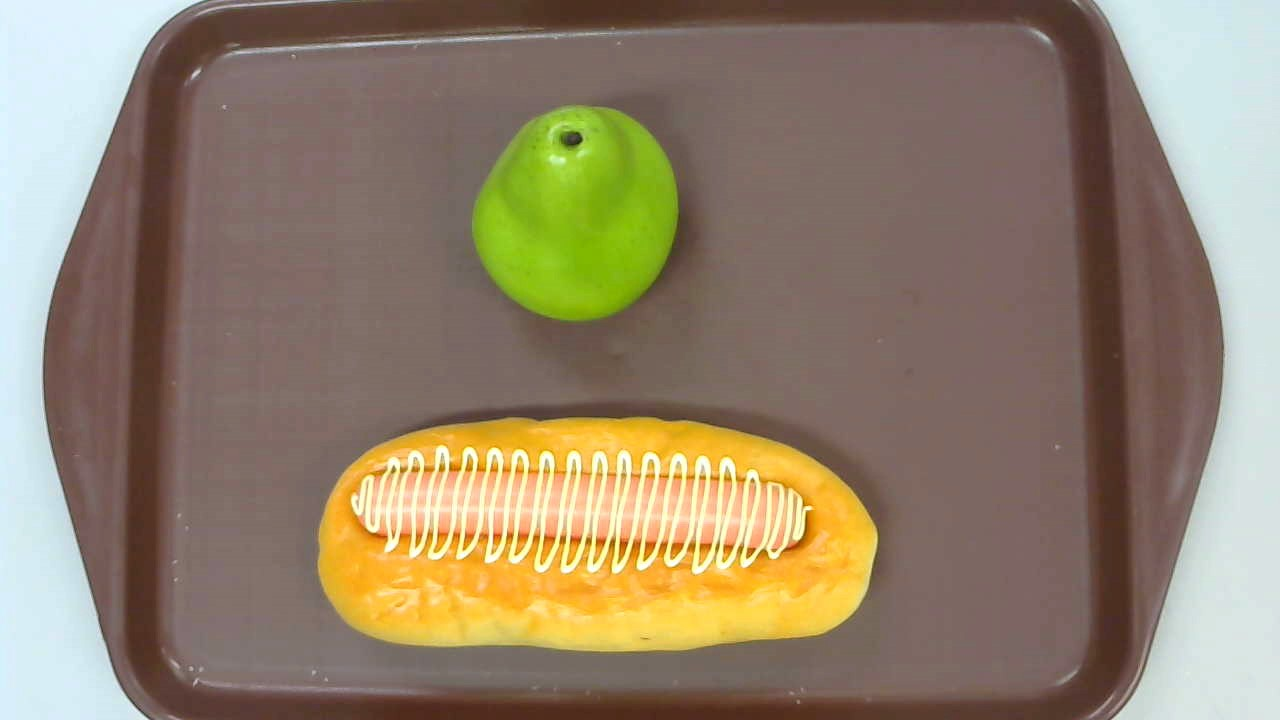green pear: (470, 105, 678, 322)
hot dog: (316, 416, 876, 653)
